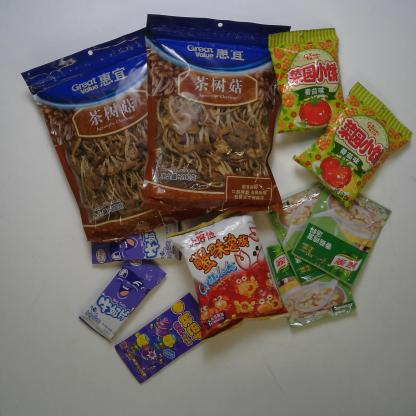Candy: (114, 292, 201, 385), (78, 259, 167, 343), (90, 220, 183, 264)
Dried Food: (19, 26, 205, 244), (140, 11, 292, 214)
Puffed Food: (164, 210, 290, 341), (293, 81, 414, 211), (267, 26, 345, 134)
Seasoner: (290, 186, 392, 288), (265, 243, 358, 328), (263, 184, 328, 286)
